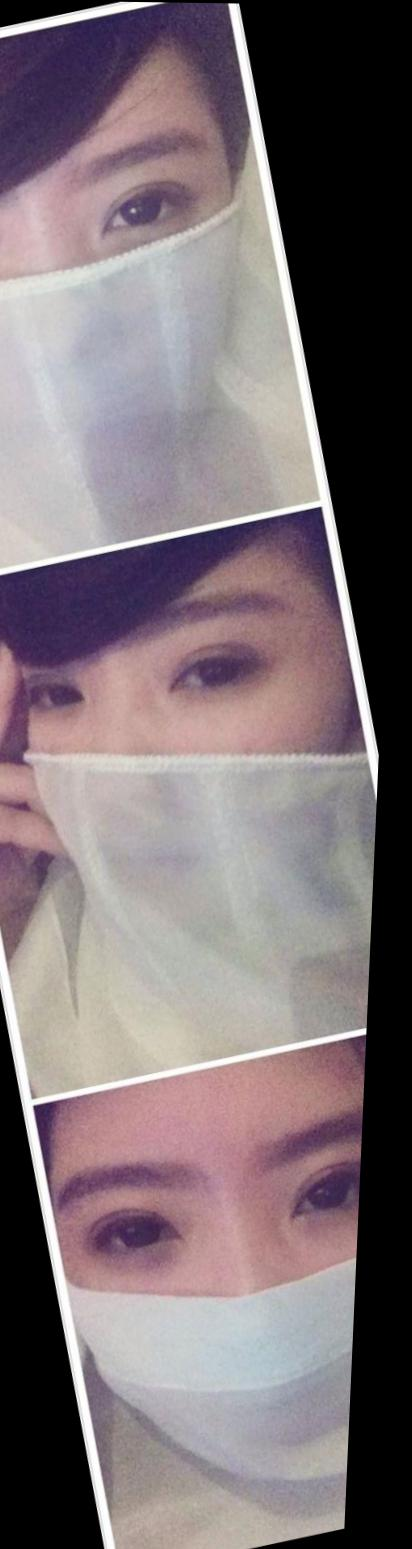NONE: (9, 588, 387, 974), (1, 76, 310, 530)
WRONG: (52, 1066, 375, 1487)
